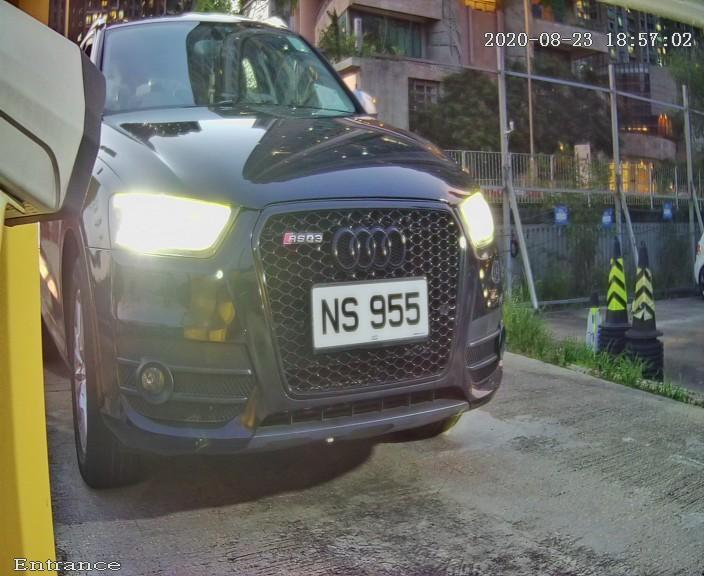Car: (19, 16, 538, 489)
License Plate: (284, 252, 445, 367)
